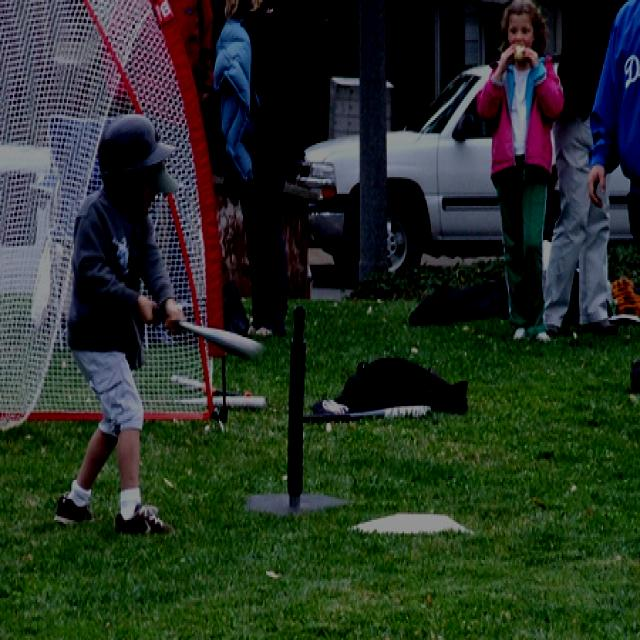Vehicle: (297, 58, 505, 284)
